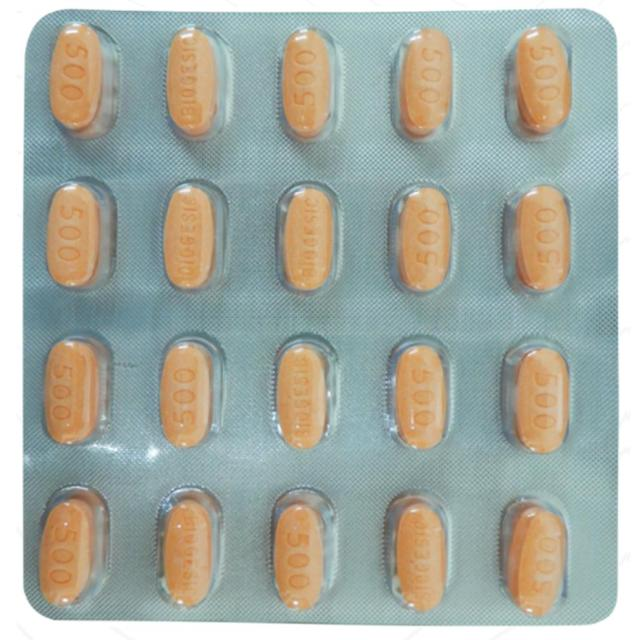blister: (21, 2, 624, 633)
